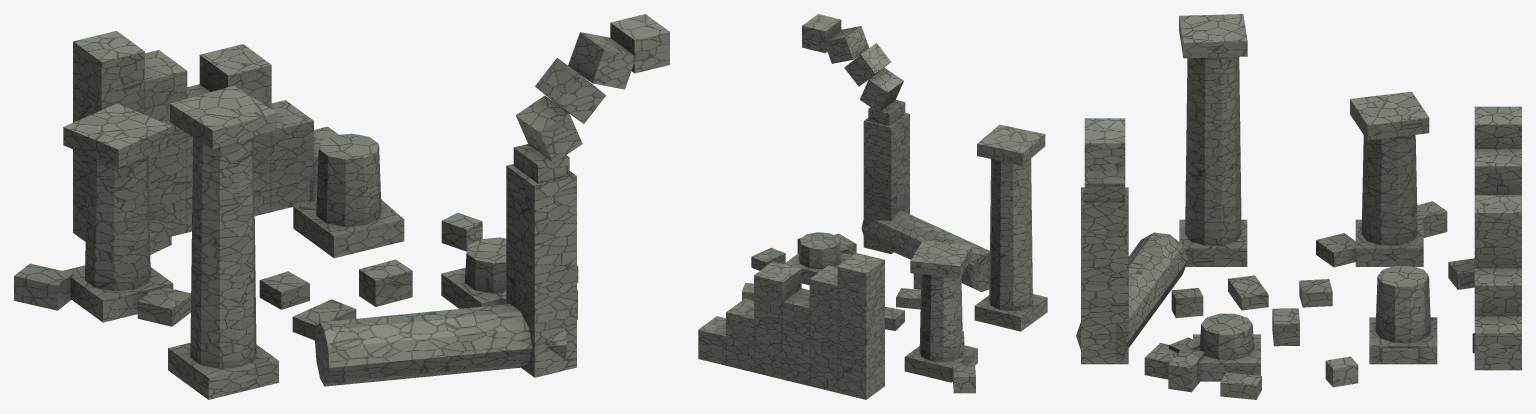
Rendered from Ruins.glb.
3 views of the same model, side by side, from view 1: azimuth 30°, elevation 25°; view 2: azimuth 150°, elevation 25°; view 3: azimuth 270°, elevation 25° (orthographic). The views are drawn at different scales.
Parts seen in each view (by area): view 1: Ruins; view 2: Ruins; view 3: Ruins.
Part boxes in pixels (bbox=[...]): Ruins: bbox=[14, 14, 669, 399]; Ruins: bbox=[698, 14, 1047, 399]; Ruins: bbox=[1076, 14, 1521, 399].
Bounding box in the file's own units: 6.36 × 4.27 × 6.58.
1 material, 1 textured.
